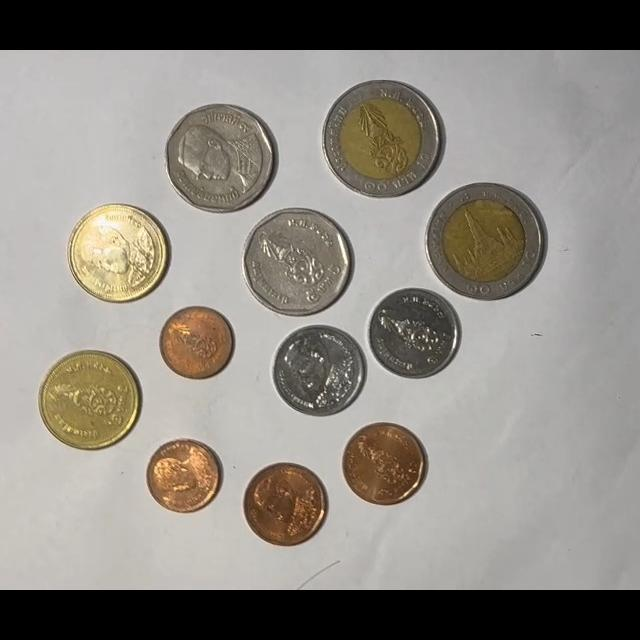1-baht: (271, 324, 365, 417), (367, 287, 460, 380)
10-baht: (321, 80, 443, 199), (426, 183, 546, 301)
2-baht: (38, 350, 141, 451), (67, 203, 168, 304)
25-satang: (146, 439, 223, 514), (159, 306, 234, 379)
5-baht: (165, 104, 278, 214), (242, 207, 353, 317)
50-satang: (243, 463, 327, 547), (341, 423, 426, 506)
